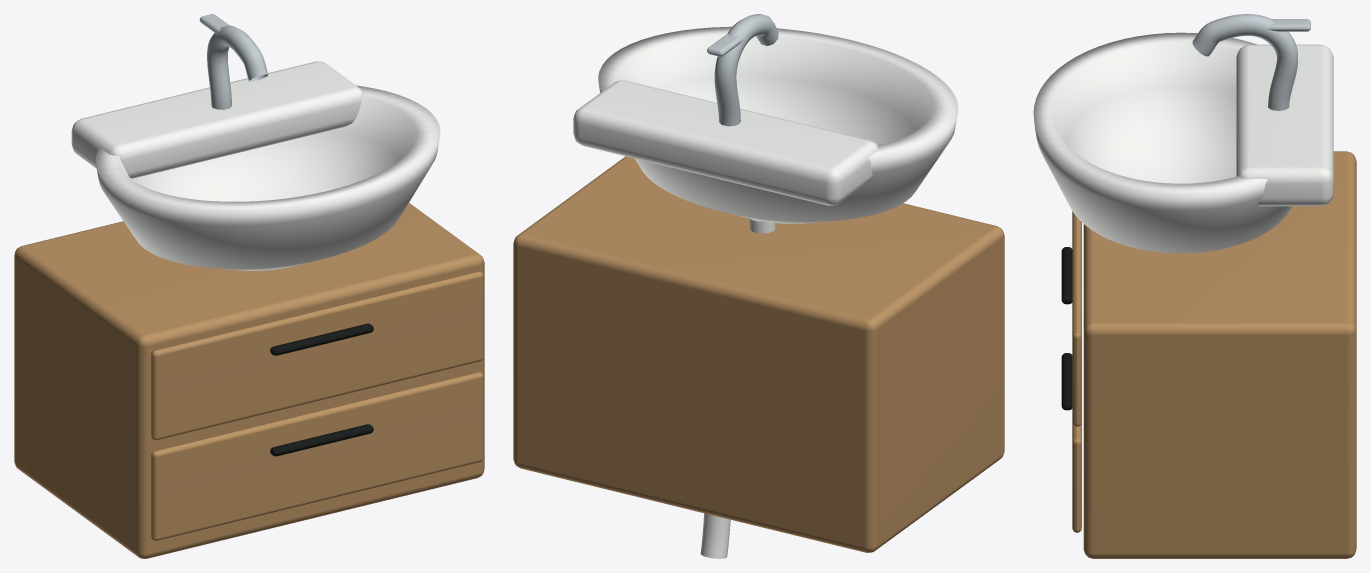
File: oak_vanity.glb
The picture shows the model from 3 angles, left to right: view 1: azimuth 30°, elevation 25°; view 2: azimuth 150°, elevation 25°; view 3: azimuth 270°, elevation 25°; orthographic projection. The views are drawn at different scales.
Parts seen in each view (by area): view 1: Floating oak vanity, Hollow ceramic basin, Drawer front, Drawer front.001, Basin tap deck, Mixer spout, Drawer pull, Drawer pull.001; view 2: Floating oak vanity, Hollow ceramic basin, Basin tap deck, Mixer spout, Waste pipe; view 3: Floating oak vanity, Hollow ceramic basin, Basin tap deck, Mixer spout, Drawer front.001, Drawer front, Drawer pull, Drawer pull.001, Mixer lever.
Boxes of the visible parts, left/top/right/bottom form: Floating oak vanity: left=14, top=203, right=484, bottom=558; Hollow ceramic basin: left=95, top=85, right=440, bottom=270; Drawer front: left=151, top=372, right=483, bottom=540; Drawer front.001: left=151, top=271, right=483, bottom=440; Basin tap deck: left=71, top=61, right=363, bottom=178; Mixer spout: left=207, top=25, right=268, bottom=109; Drawer pull: left=270, top=424, right=373, bottom=456; Drawer pull.001: left=270, top=323, right=373, bottom=355; Floating oak vanity: left=513, top=156, right=1004, bottom=552; Hollow ceramic basin: left=598, top=26, right=958, bottom=223; Basin tap deck: left=573, top=80, right=878, bottom=205; Mixer spout: left=714, top=14, right=778, bottom=126; Waste pipe: left=700, top=218, right=775, bottom=558; Floating oak vanity: left=1083, top=151, right=1356, bottom=558; Hollow ceramic basin: left=1033, top=32, right=1291, bottom=253; Basin tap deck: left=1236, top=44, right=1333, bottom=206; Mixer spout: left=1192, top=14, right=1297, bottom=110; Drawer front.001: left=1072, top=211, right=1081, bottom=426; Drawer front: left=1072, top=423, right=1081, bottom=532; Drawer pull: left=1061, top=353, right=1072, bottom=410; Drawer pull.001: left=1061, top=247, right=1072, bottom=304; Mixer lever: left=1267, top=19, right=1310, bottom=31.
Bounding box in the file's own units: 0.65 × 0.8817 × 0.4972.
